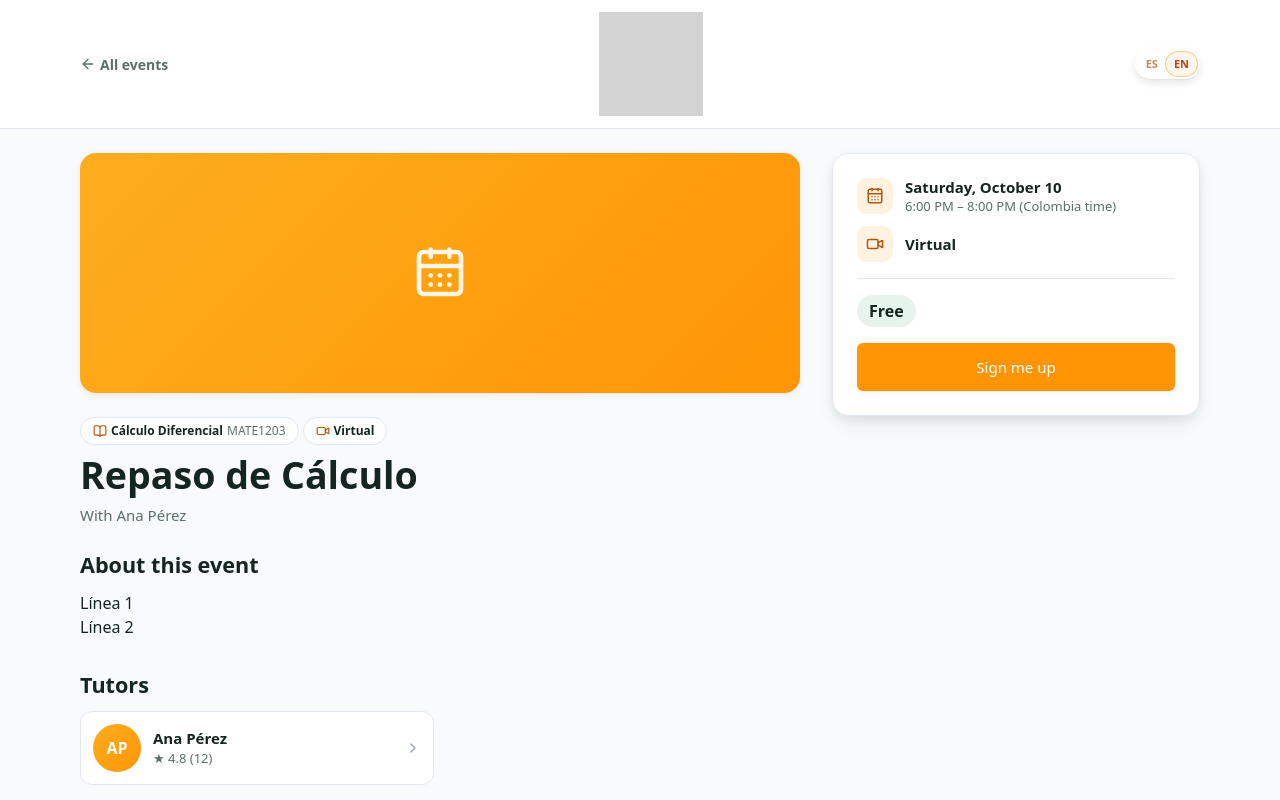
Test case: EventDetailView › maps EVENT_TUTOR to its message
This screenshot has width=1280, height=800.
Click the button "Sign me up" at point(1016, 367), box [857, 343, 1175, 391]
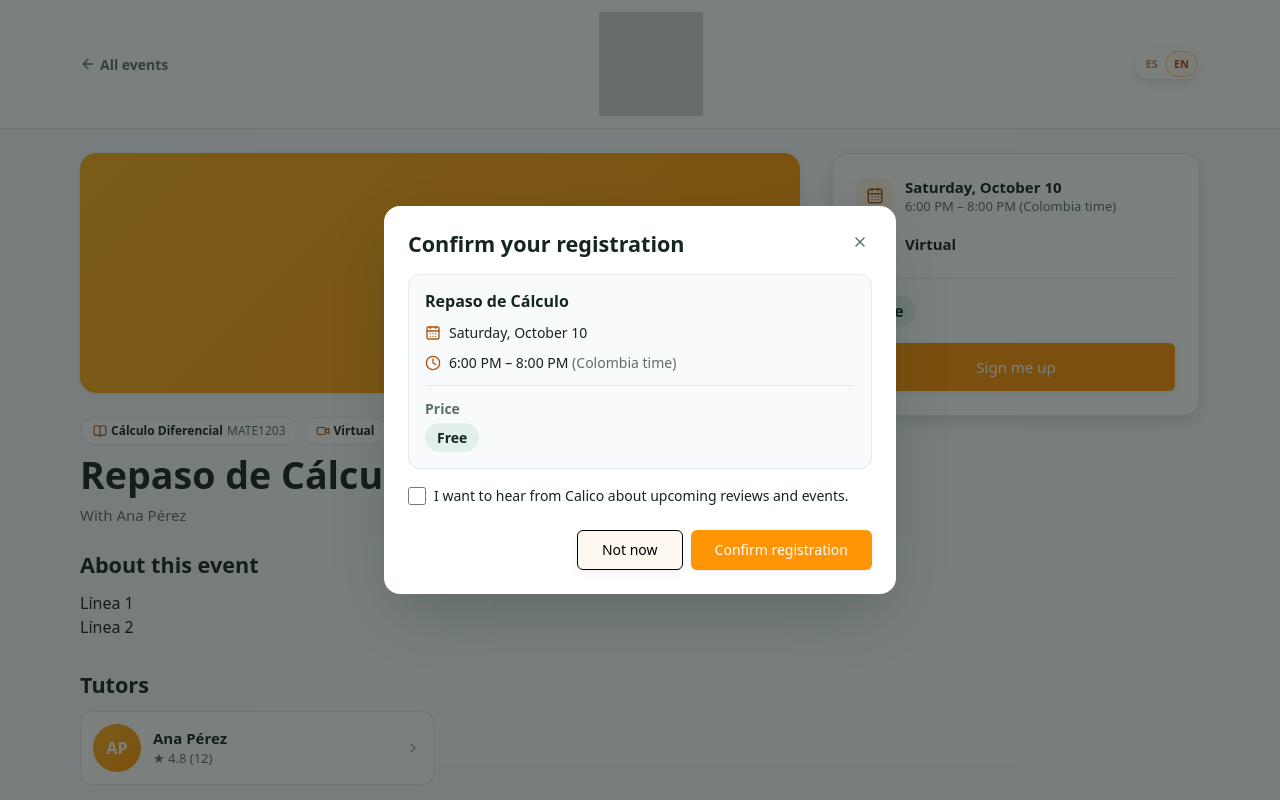
Click the button "Confirm registration" at point(781, 550), box [691, 530, 872, 570]
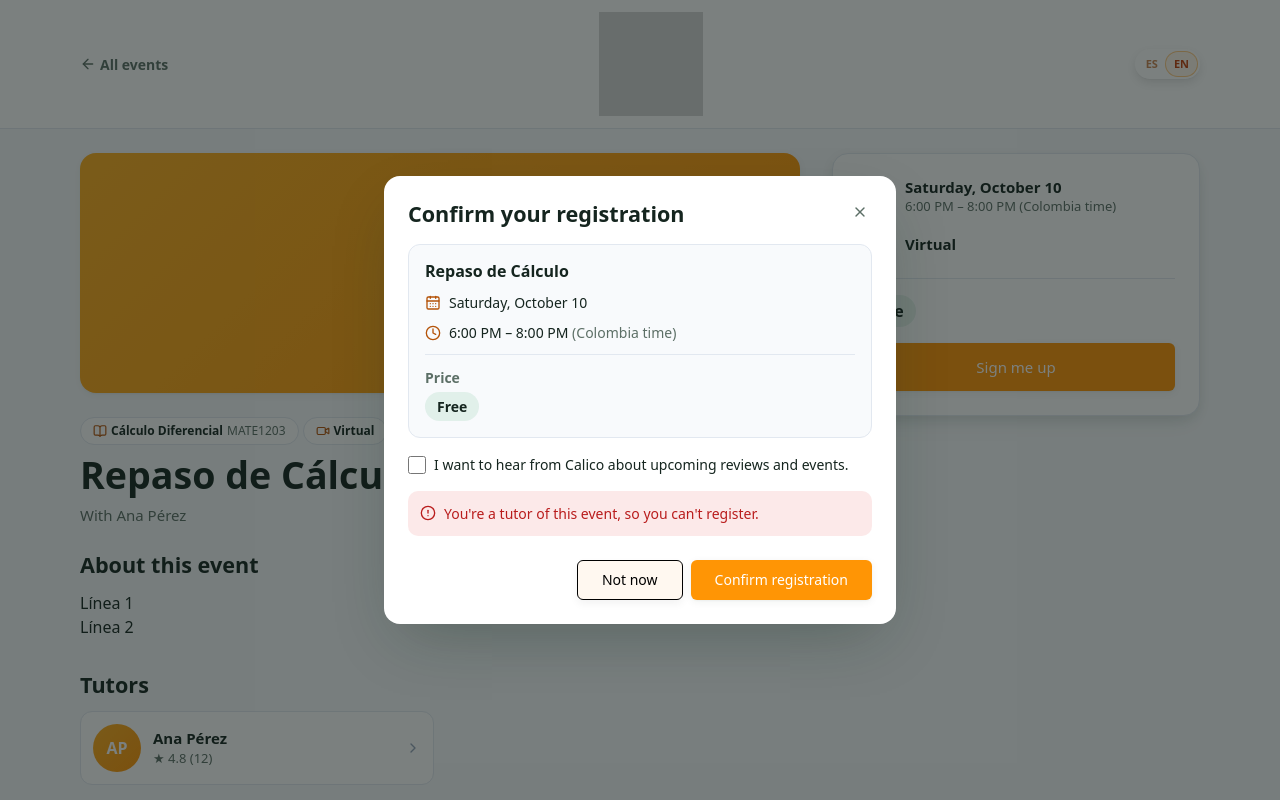
Result: the message reads "You're a tutor of this event, so you can't register." at [444, 504, 759, 523]
